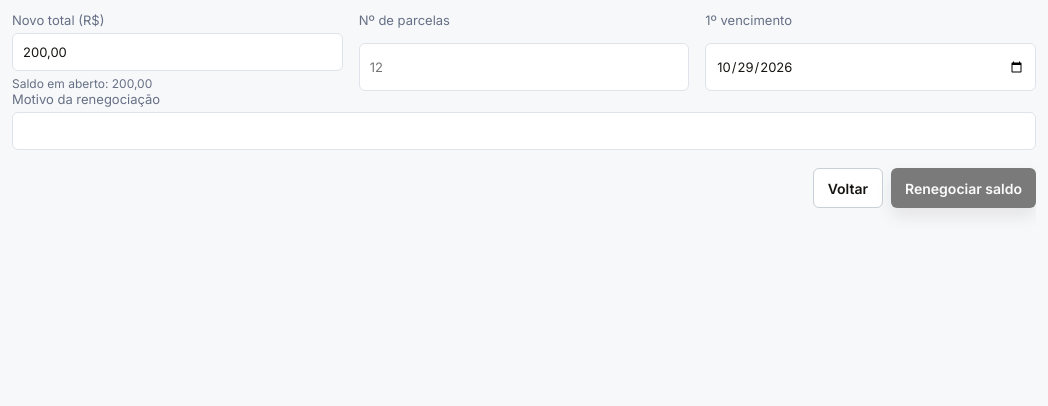
it: FormularioParcelamento › bloqueia quando a soma das parcelas não fecha o total
Type "2" into the field with placeholder "12".
click(524, 67); type("2")  # box [359,43,689,91]
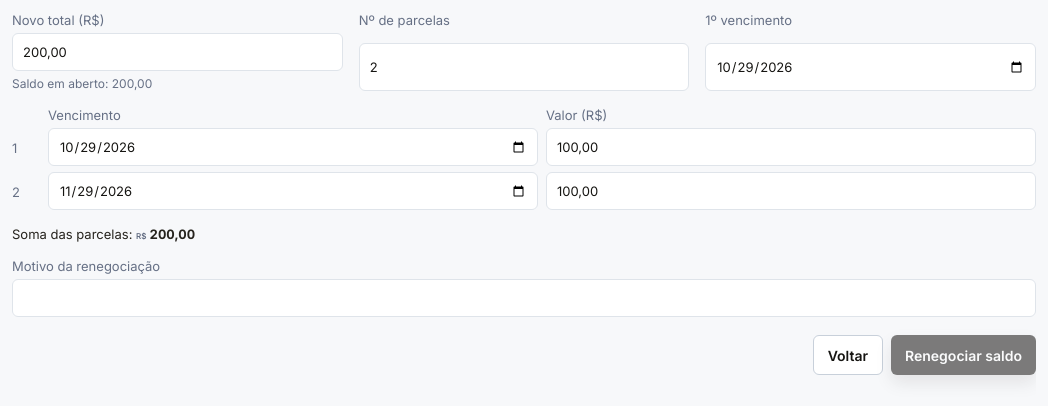
Type "novo acordo" into the field labelled "Motivo da renegociação".
click(524, 298); type("novo acordo")  # box [12,279,1036,317]
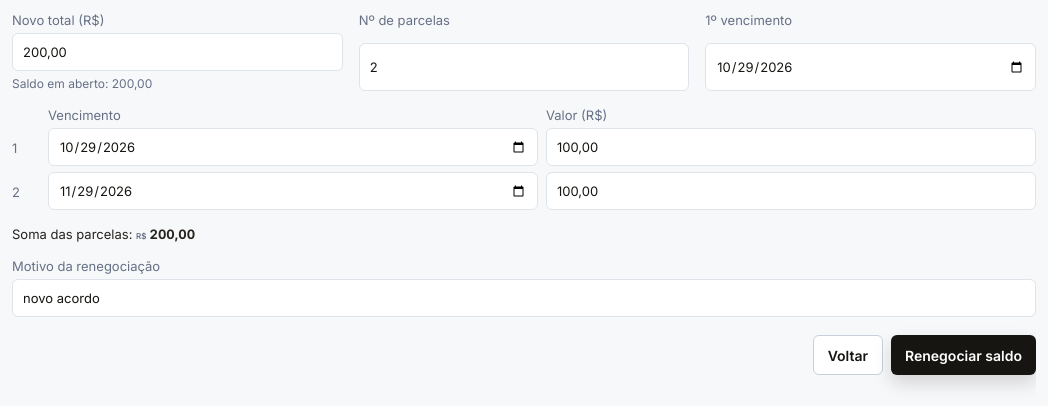
Replace the text in the field named "Valor da parcela 1" with "90,00" at point(791, 147), box [546,128,1036,166]
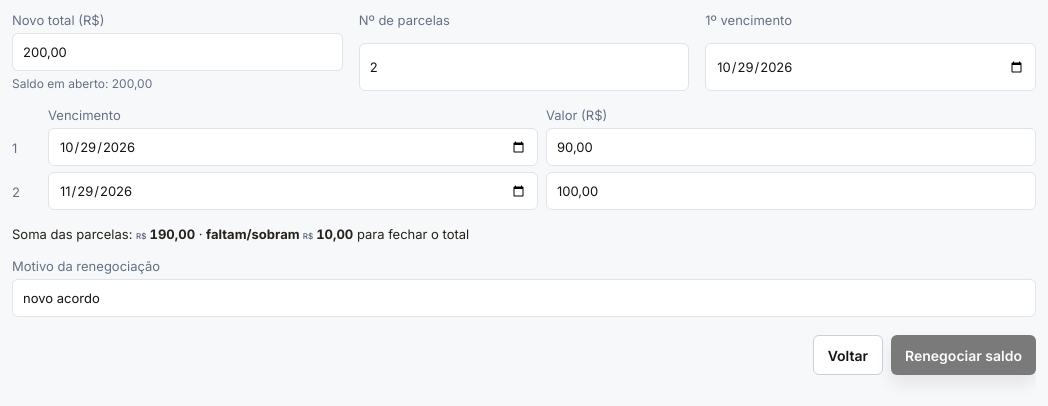
Result: the button "Renegociar saldo" is disabled at [891,335,1036,375]
Result: the text "para fechar o total" is shown at [353,226,469,242]
